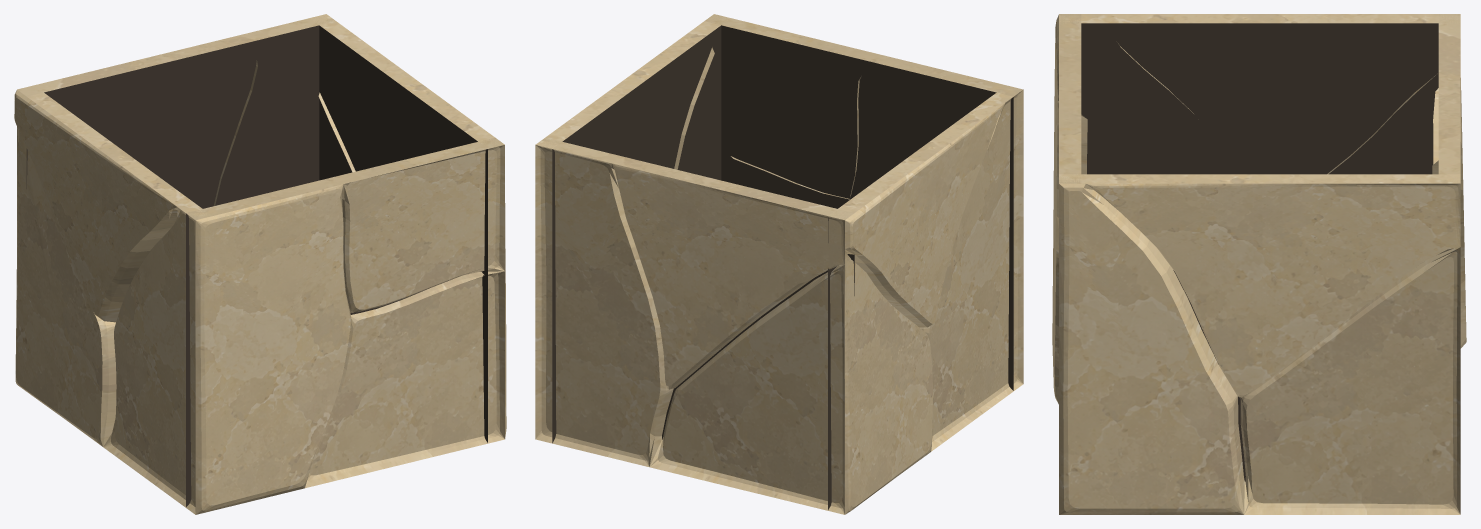
Rendered from ground_island_02.glb.
3 renders of one model, left to right at view 1: azimuth 30°, elevation 25°; view 2: azimuth 150°, elevation 25°; view 3: azimuth 270°, elevation 25°, orthographic. The views are drawn at different scales.
Parts seen in each view (by area): view 1: GroundIsland02_Body; view 2: GroundIsland02_Body; view 3: GroundIsland02_Body.
Boxes of the visible parts, bbox=[...] form: GroundIsland02_Body: bbox=[14, 14, 506, 514]; GroundIsland02_Body: bbox=[535, 14, 1023, 514]; GroundIsland02_Body: bbox=[1052, 14, 1466, 514].
Bounding box in the file's own units: 1.03 × 0.91 × 1.03.
Materials: 14 (13 with a texture image).
